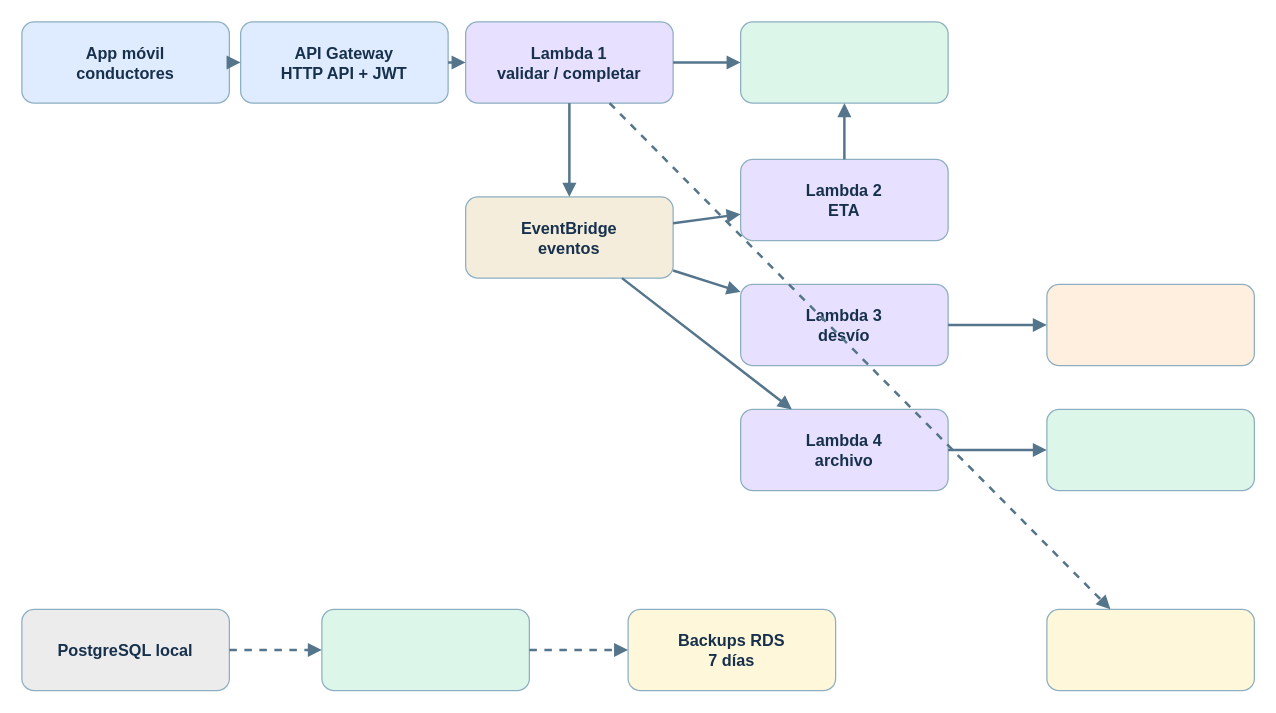
The diagram is 1276 pixels wide and 713 high, and some of its shapes have lost their labels. The shapes that lost their labels are listed below. From the top down, each one's centre as x and y in pixels, then its label:
At pixel 843 62: "DynamoDB estado actual".
At pixel 1150 324: "SNS alerta".
At pixel 1150 449: "S3 histórico por fecha".
At pixel 425 649: "RDS PostgreSQL privado Single-AZ".
At pixel 1150 649: "CloudWatch logs y alarmas".
